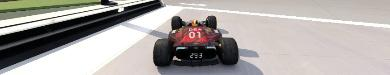Car: (152, 15, 239, 66)
Solid White and black: (177, 2, 389, 32)
obstacles-Borders: (0, 0, 164, 74)
